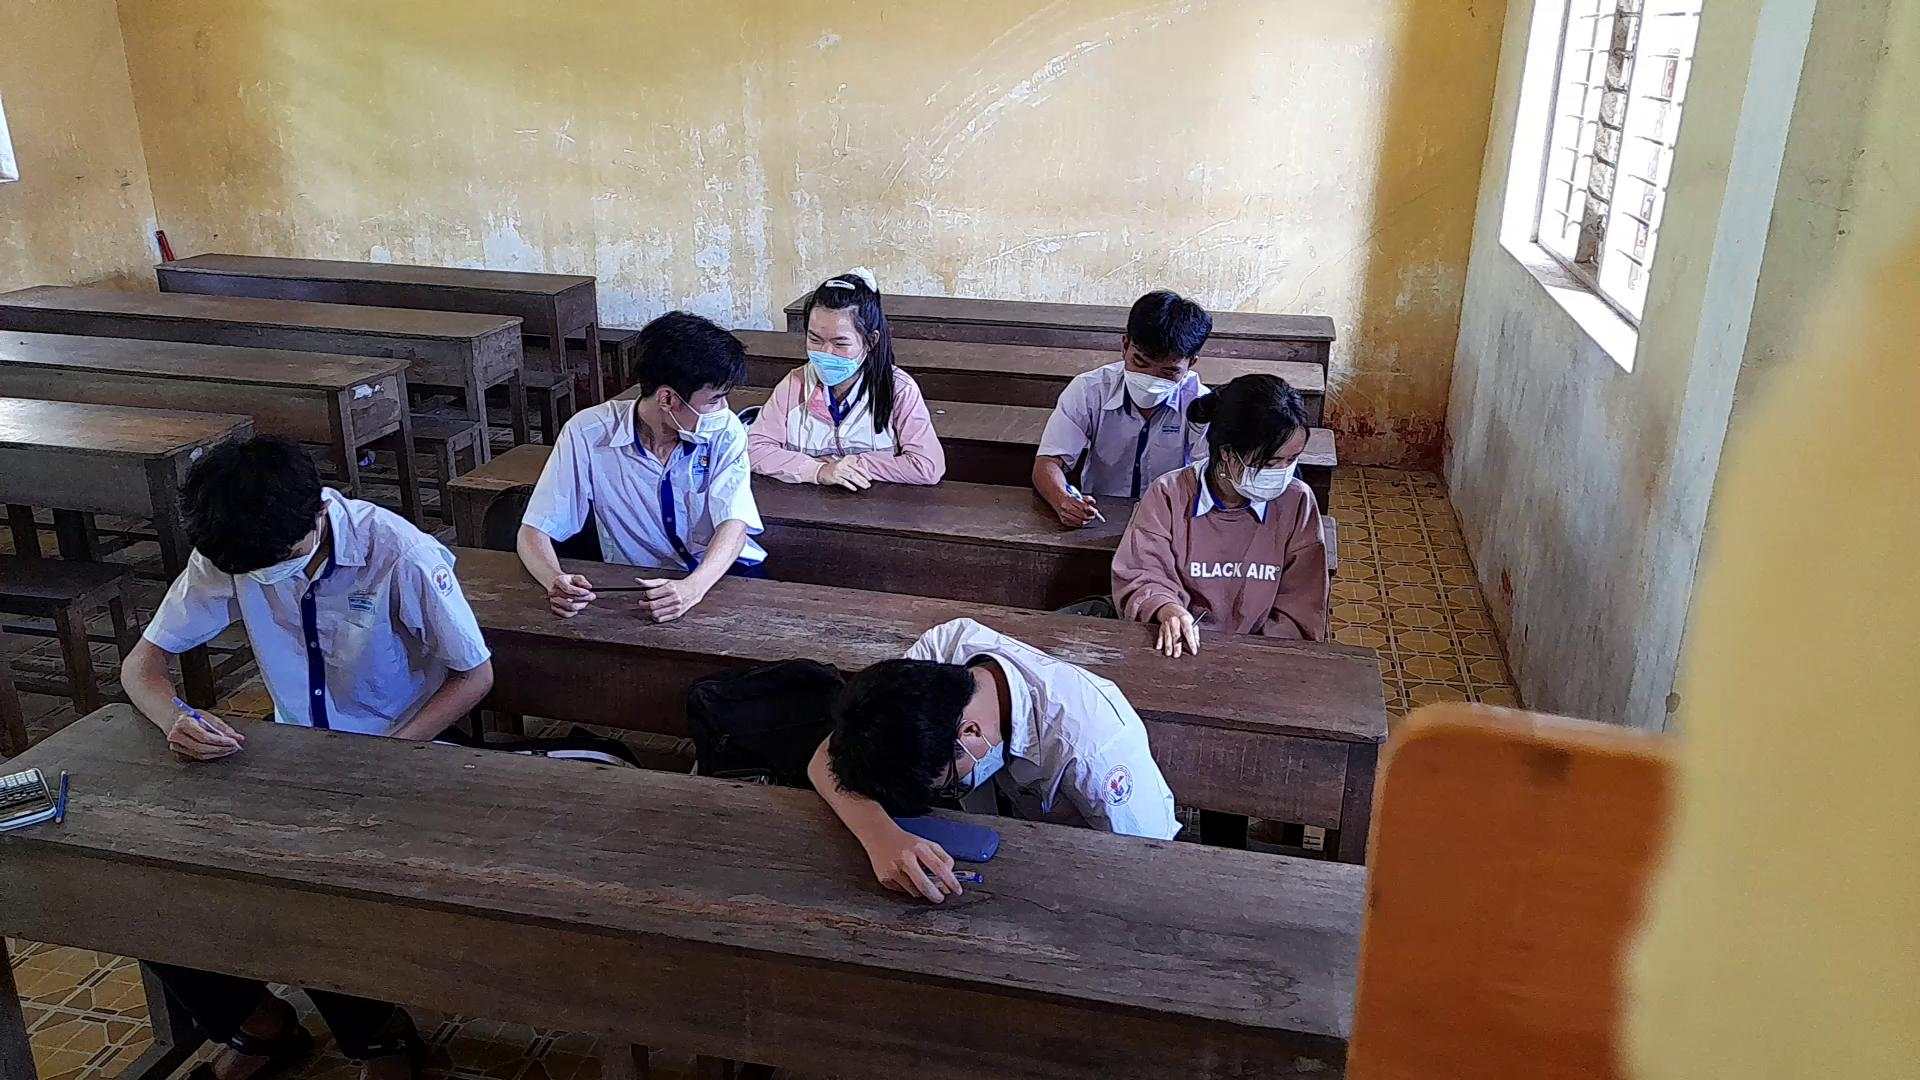Bend Over The Desk: (156, 422, 356, 588), (831, 640, 1033, 804)
Hand Under Table: (363, 537, 491, 742), (1058, 676, 1184, 882)
Look Around: (607, 305, 754, 462), (1172, 363, 1319, 518)
Normal: (1018, 276, 1225, 524), (740, 269, 947, 496)
